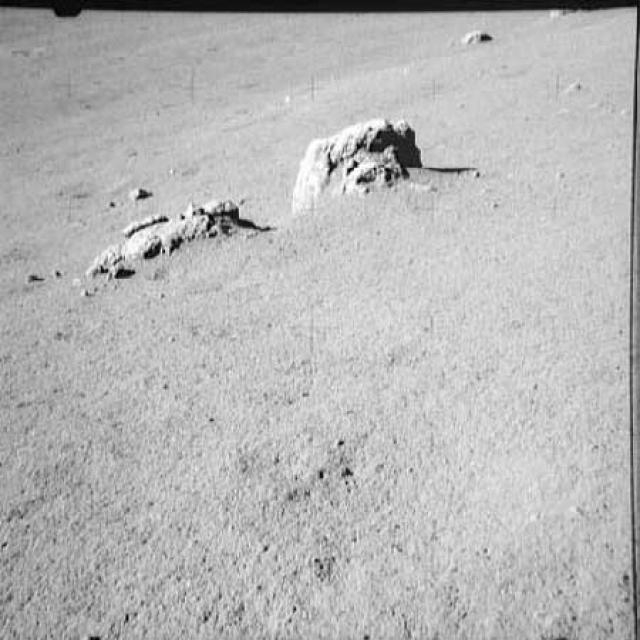rock: (276, 113, 459, 209), (78, 195, 272, 282), (452, 25, 499, 52), (560, 72, 588, 100)
